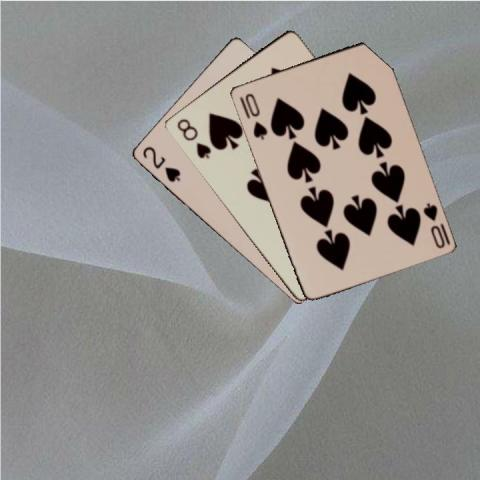10s: (241, 90, 269, 140), (419, 199, 446, 250)
2s: (139, 143, 182, 184)
8s: (173, 115, 212, 160)
